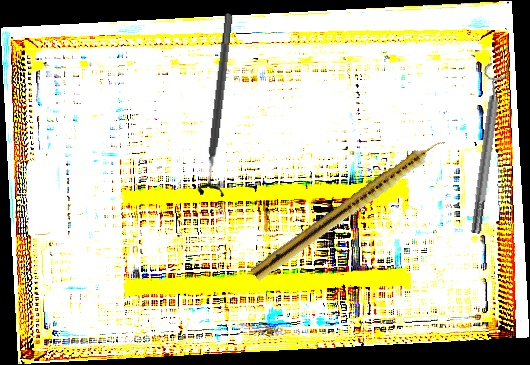Fixation Ring: (195, 11, 244, 198), (461, 61, 512, 236)
Handpiece: (250, 132, 450, 286)
